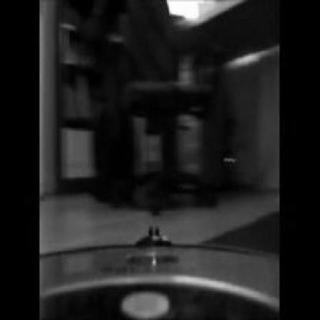other: (217, 150, 249, 184)
